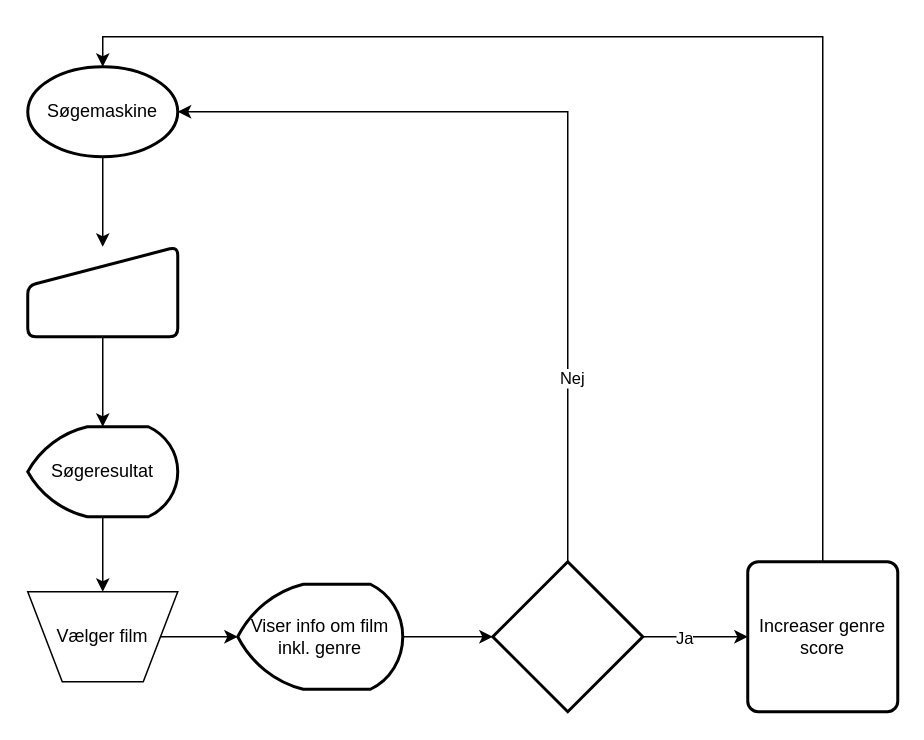
This 924x740 diagram has some shape labels left out. The shapes that lost their labels are listed below. From the top down, each one's centre as x and y in pixels, then its label:
At point (102, 291): "Input: Søgning".
At point (567, 636): "Vil du se film?".
